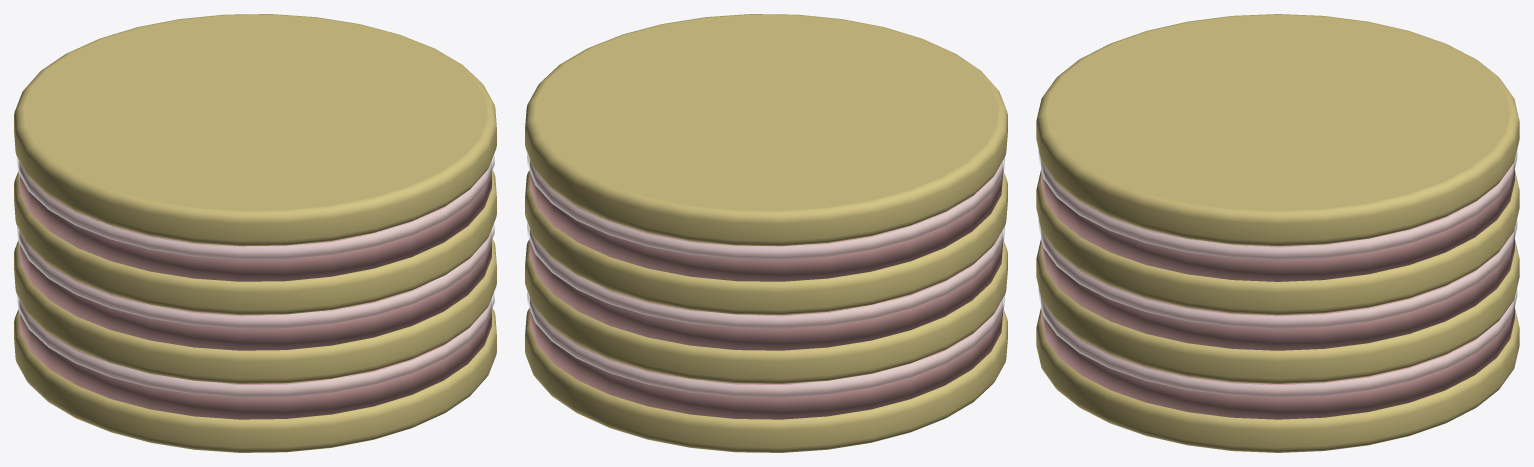
File: tier_10.glb
3 views of the same model, side by side, from view 1: azimuth 30°, elevation 25°; view 2: azimuth 150°, elevation 25°; view 3: azimuth 270°, elevation 25° (orthographic).
Parts seen in each view (by area): view 1: 10_TopCap, 10_Cake, 10_Frosting, 10_Filling; view 2: 10_TopCap, 10_Cake, 10_Frosting, 10_Filling; view 3: 10_TopCap, 10_Cake, 10_Frosting, 10_Filling.
Part boxes in pixels (bbox=[...]): 10_TopCap: bbox=[23, 15, 487, 210]; 10_Cake: bbox=[14, 14, 496, 452]; 10_Frosting: bbox=[19, 160, 491, 419]; 10_Filling: bbox=[16, 154, 494, 397]; 10_TopCap: bbox=[534, 15, 998, 210]; 10_Cake: bbox=[525, 14, 1007, 452]; 10_Frosting: bbox=[530, 160, 1002, 419]; 10_Filling: bbox=[527, 154, 1005, 397]; 10_TopCap: bbox=[1046, 15, 1509, 210]; 10_Cake: bbox=[1036, 14, 1519, 452]; 10_Frosting: bbox=[1041, 161, 1514, 419]; 10_Filling: bbox=[1038, 150, 1517, 397].
Bounding box in the file's own units: 0.254 × 0.1397 × 0.254.
